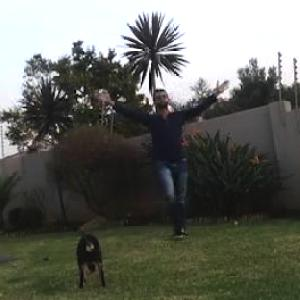takeoff: (87, 82, 216, 235)
